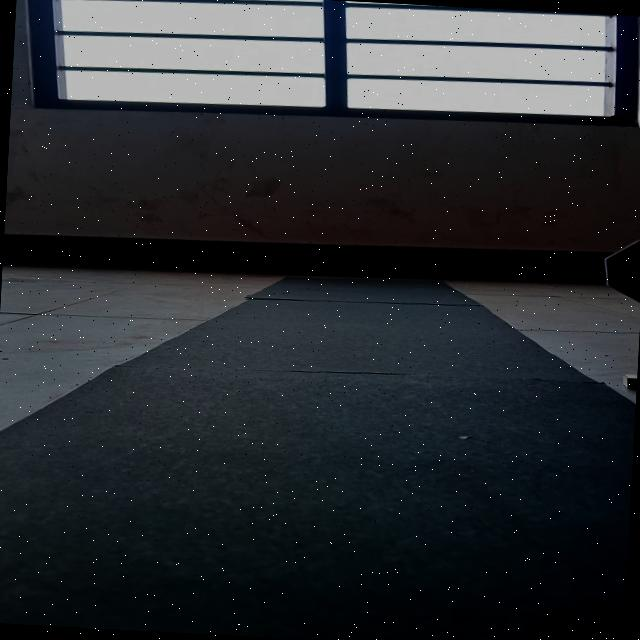Stop: (598, 235, 640, 303)
